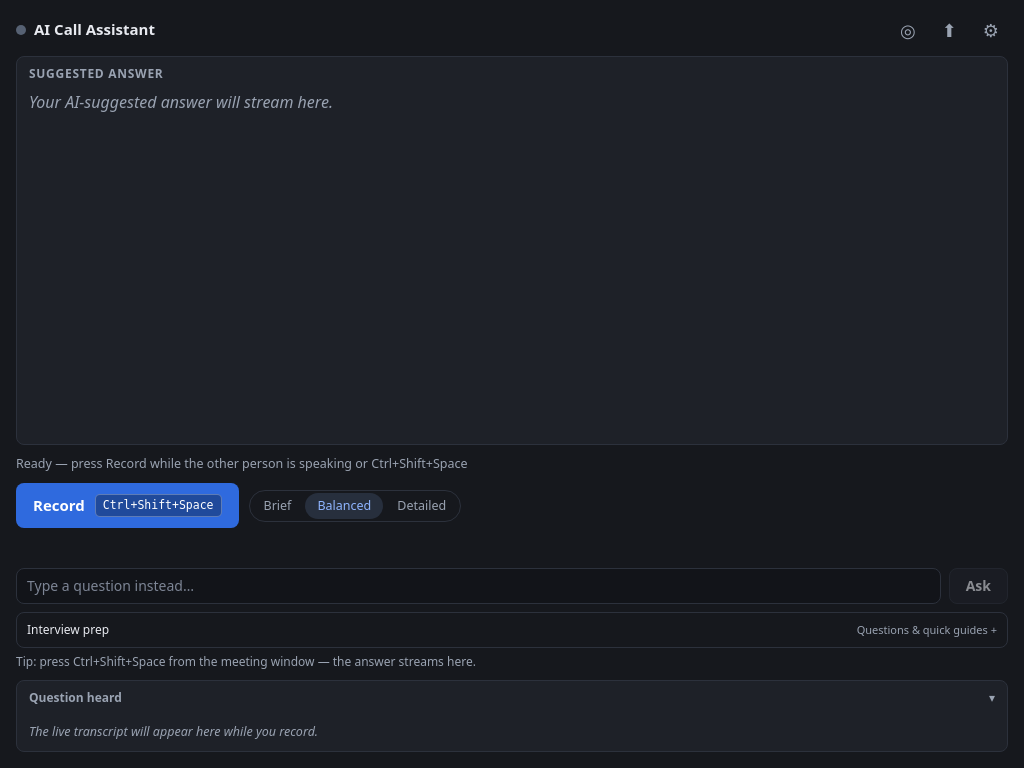
typed ask › is disabled while recording
Expected: the button named "Settings" is enabled, x1=974 y1=14 x2=1008 y2=46
Click the button "Record Ctrl+Shift+Space". click: (127, 506)
box: x1=16 y1=483 x2=238 y2=528
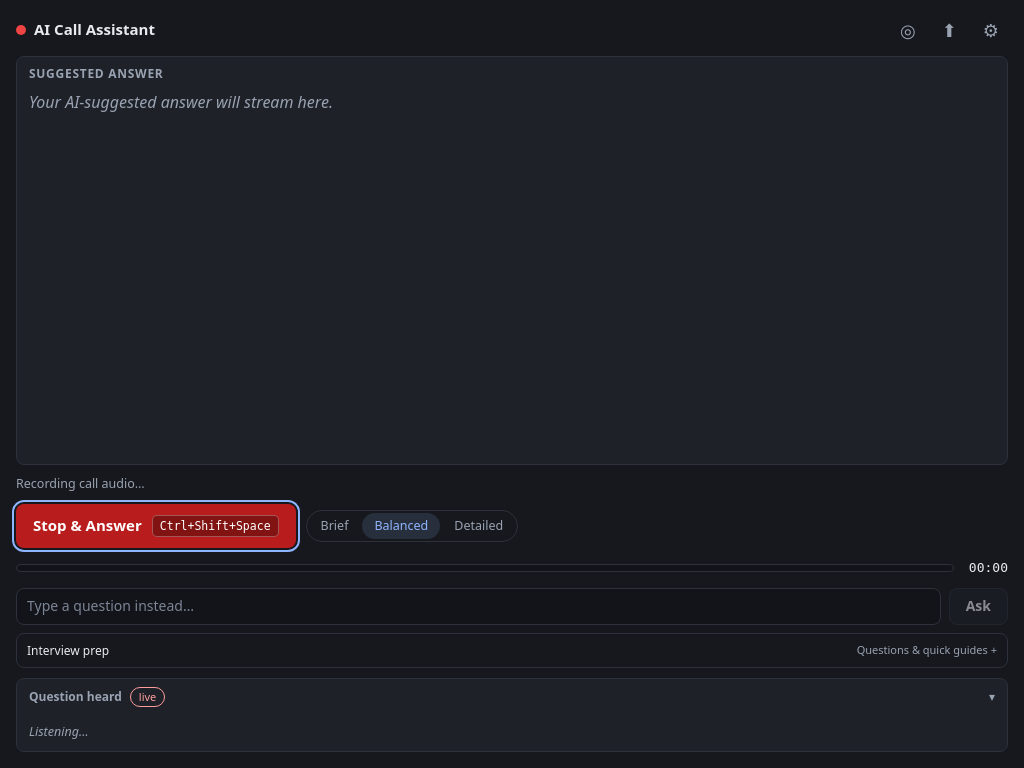
Result: the text "Recording call audio…" is shown at x1=16 y1=476 x2=145 y2=492
Result: the field labelled "Type a question" is disabled at x1=16 y1=588 x2=941 y2=625
